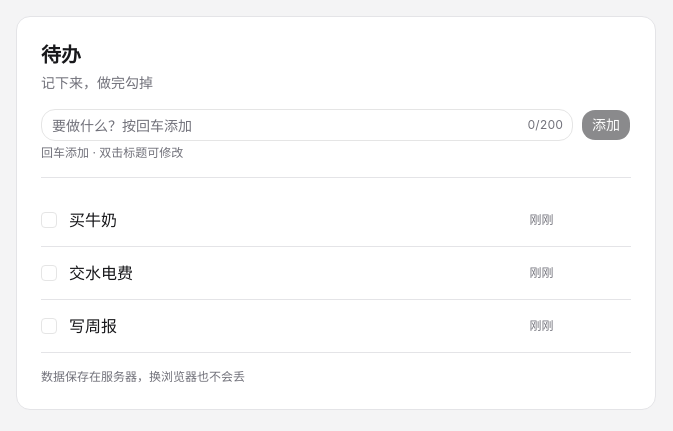
Story 3.4 行内编辑（ATDD 主叶子，组件层） › [P0] AC-1 FE-E1 双击标题进入编辑：就地出现「编辑待办标题：<原标题>」输入框，内嵌计数器「4/200」，帮助行经 aria-describedby 关联为编辑文案
This screenshot has width=673, height=431.
Check: the number of list items is 3, box x1=41 y1=194 x2=631 y2=247; x1=41 y1=247 x2=631 y2=300; x1=41 y1=300 x2=631 y2=353
Double-click the button with aria-label "编辑：交水电费" at (101, 273), box x1=69 y1=261 x2=517 y2=285
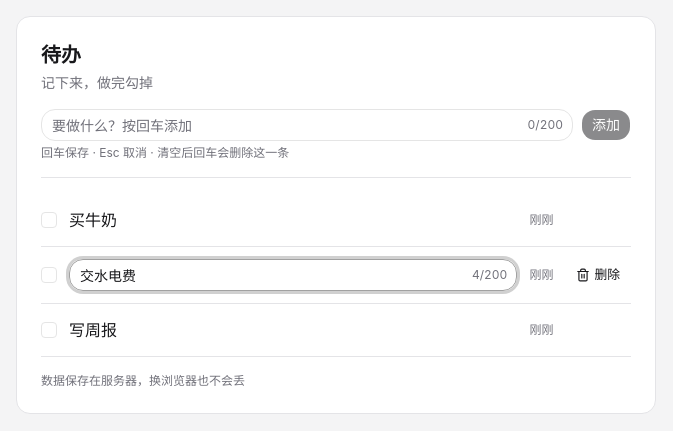
Check: the text "4/200" is shown, box x1=472 y1=267 x2=507 y2=283
Check: the button "编辑：交水电费" is gone
Check: the field named "编辑待办标题：交水电费" holds "交水电费", box x1=69 y1=259 x2=517 y2=291
